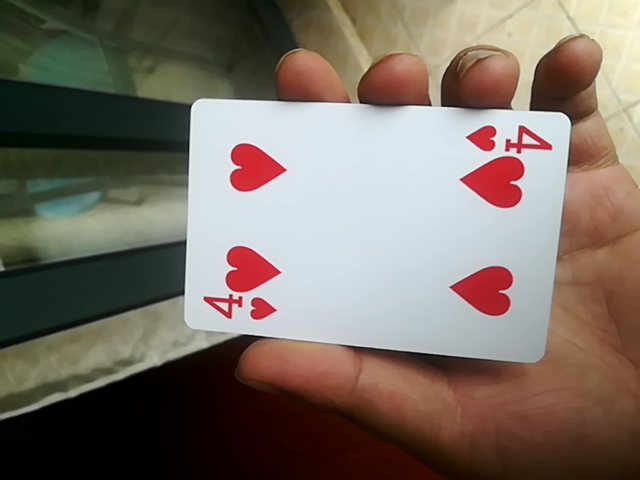hx 4: (176, 98, 570, 368)
